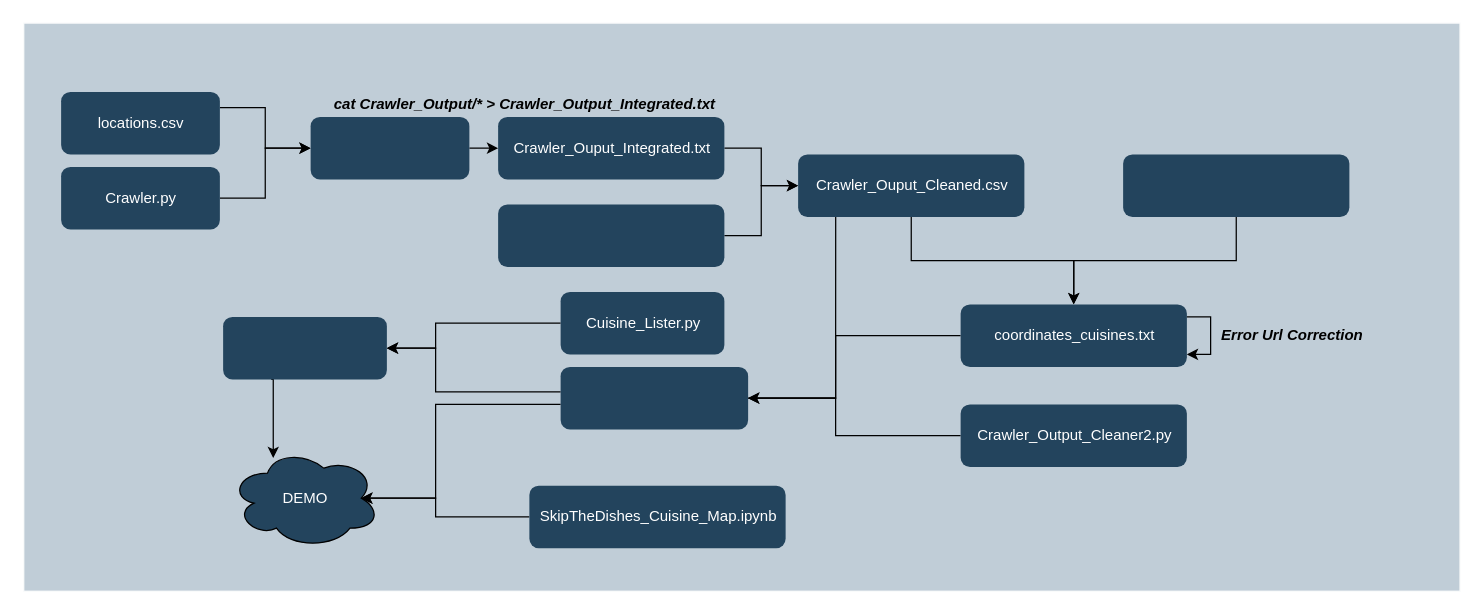
Image size: 1483x615. Some labels were removed from this diagram. The shapes that lost their labels are listed below. From the top down, each one's box as (x1, y1, x2, y2) in pixels, then its label:
(310, 116, 469, 179): Crawler_Output/*
(1122, 154, 1349, 216): Detail_Scraper.py
(498, 204, 724, 266): Crawler_Output_Cleaner.py
(222, 316, 386, 379): Cuisine_List.txt
(560, 366, 748, 429): SkipTheDishes_Clean.csv
